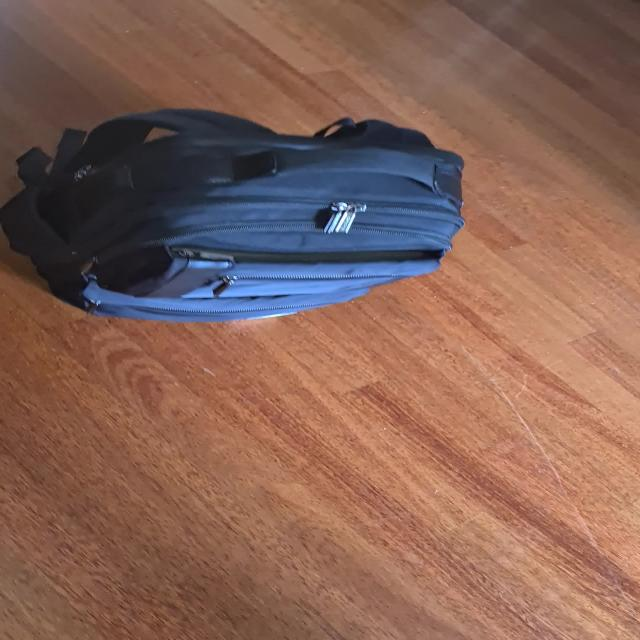backpack: (0, 99, 480, 328)
